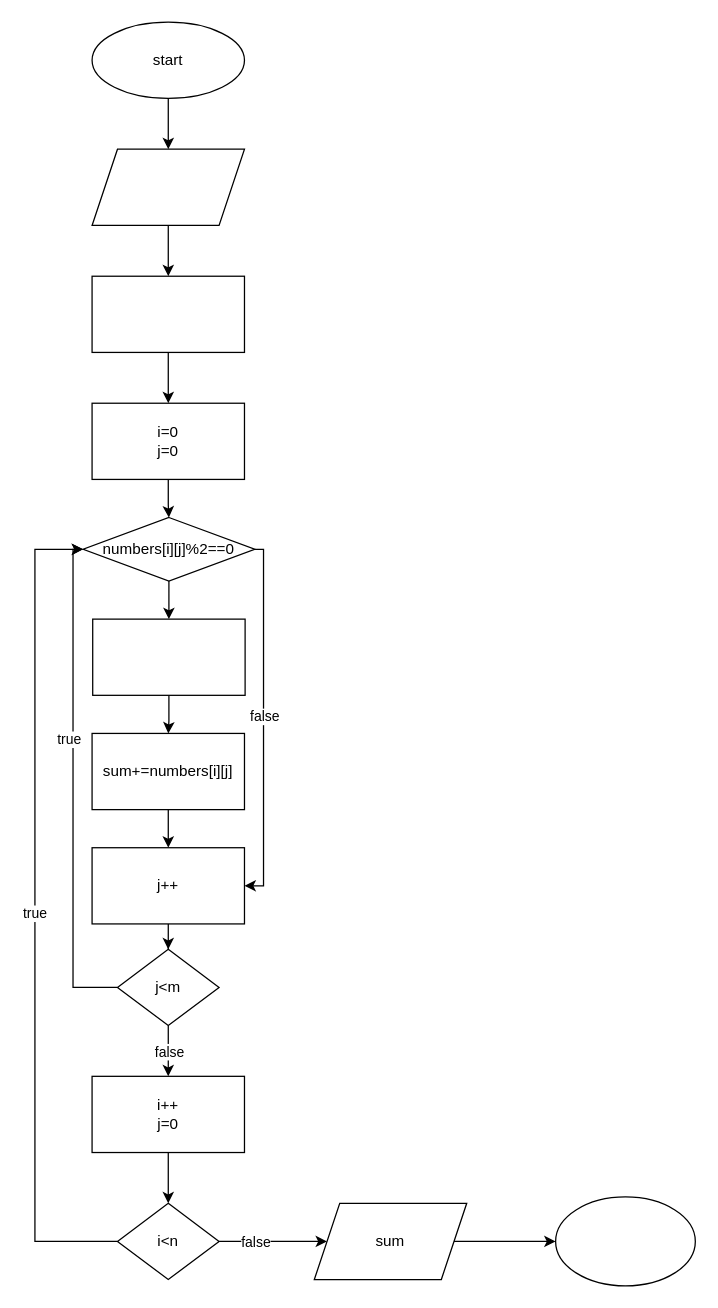
Image size: 718x1308. Some labels were removed from this diagram. The centre of each missing label's shape, as x and y in pixels:
end: point (624, 1241)
in ra man hinh numbers[i][j]: point (168, 656)
n,m,i,j,sum=0: point (167, 186)
nhap so hang so cot va gia tri cac phan tu cua mang: point (167, 313)
